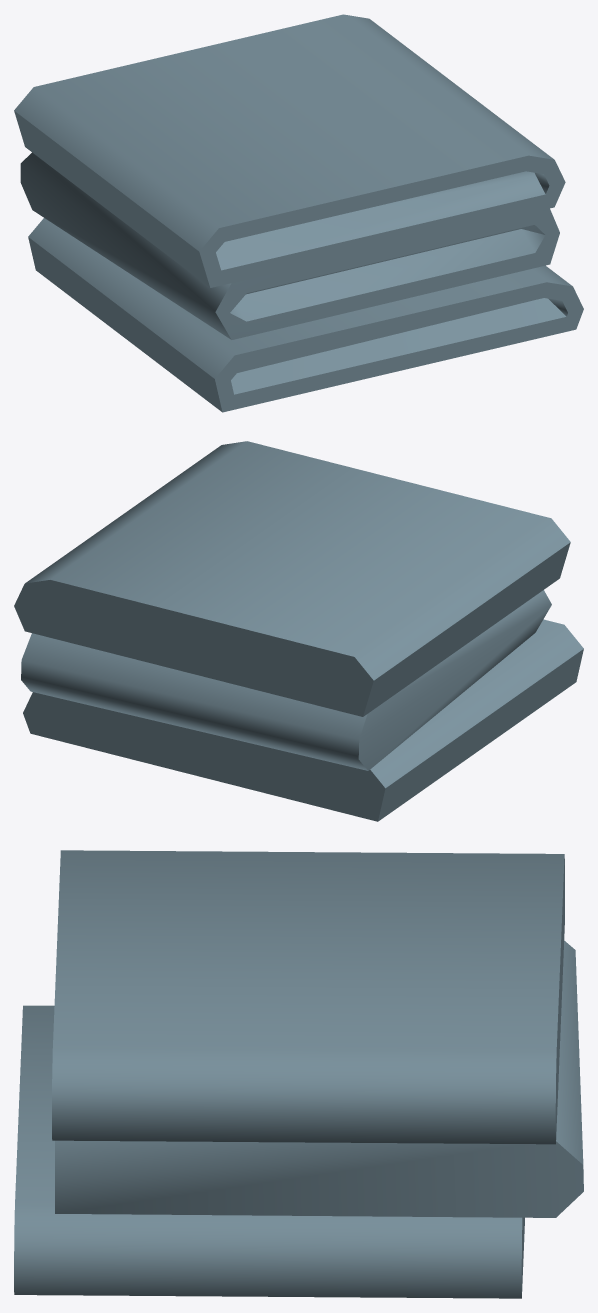
File: clothes_024.fbx
3 views of the same model, one above another, from view 1: azimuth 30°, elevation 25°; view 2: azimuth 150°, elevation 25°; view 3: azimuth 270°, elevation 25° (orthographic). The views are drawn at different scales.
Visible parts, largest first — view 1: clothes_024; view 2: clothes_024; view 3: clothes_024.
Boxes of the visible parts, <box> form: clothes_024: <box>14,14,583,412</box>; clothes_024: <box>14,441,583,821</box>; clothes_024: <box>14,850,583,1298</box>.
Bounding box in the file's own units: 39.77 × 39.96 × 17.48.
